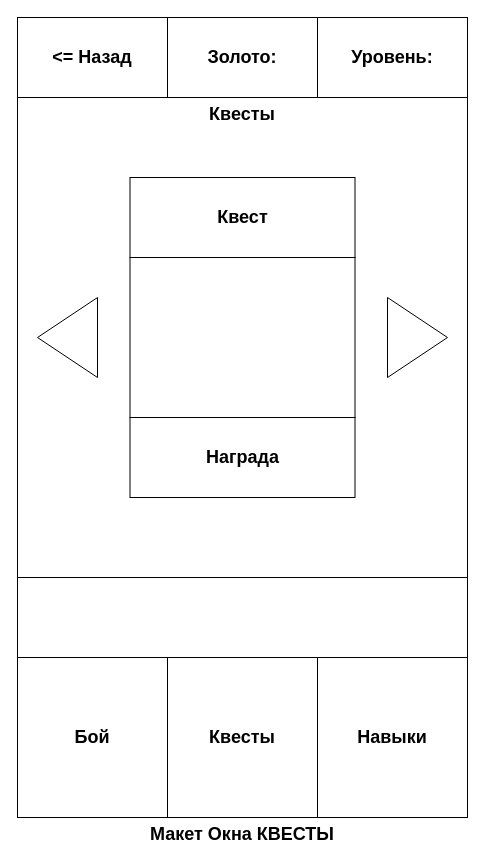
Image size: 485x864. Some labels were removed from this diagram. Here are the shapes that lost their labels. From the top down, the centre of each, then its label:
At (242,337): "Описание квеста".
At (242,617): "Прогресс бар".
